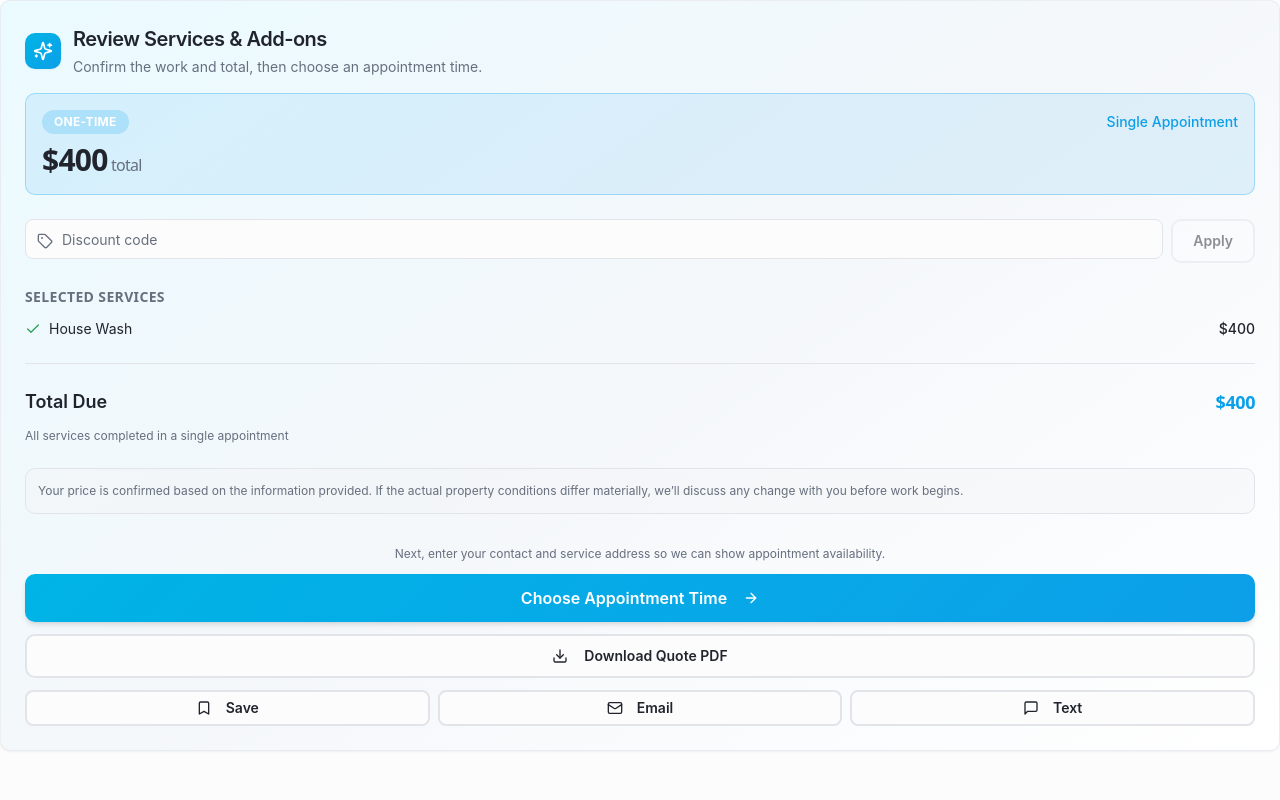
it: OneTimeSummary — email + bid-by-text delivery › email delivery reuses save-quote and shows masked destination as accepted (not delivered)
Click the button "Email" at (640, 708), box [438,690,842,726]
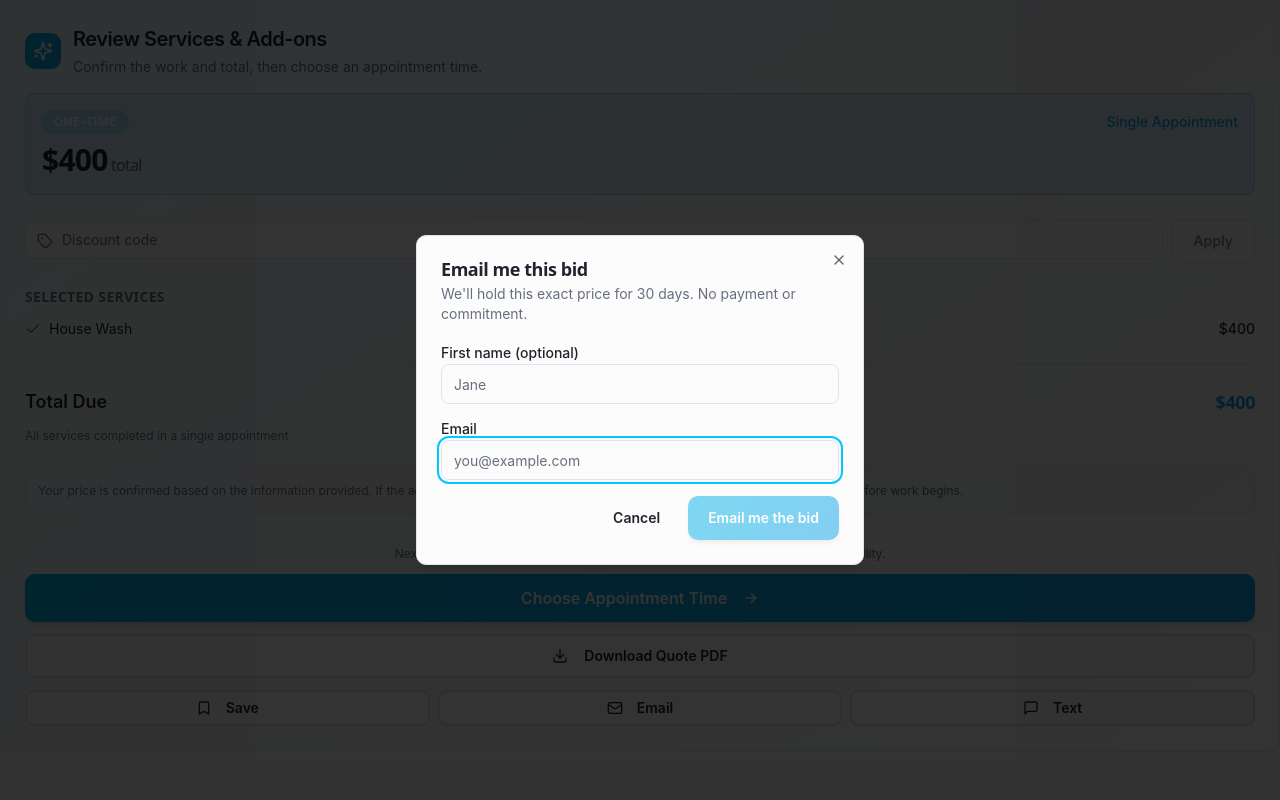
Type "jane.doe@example.com" into the field labelled "Email" at (640, 460), box [441,440,839,480]
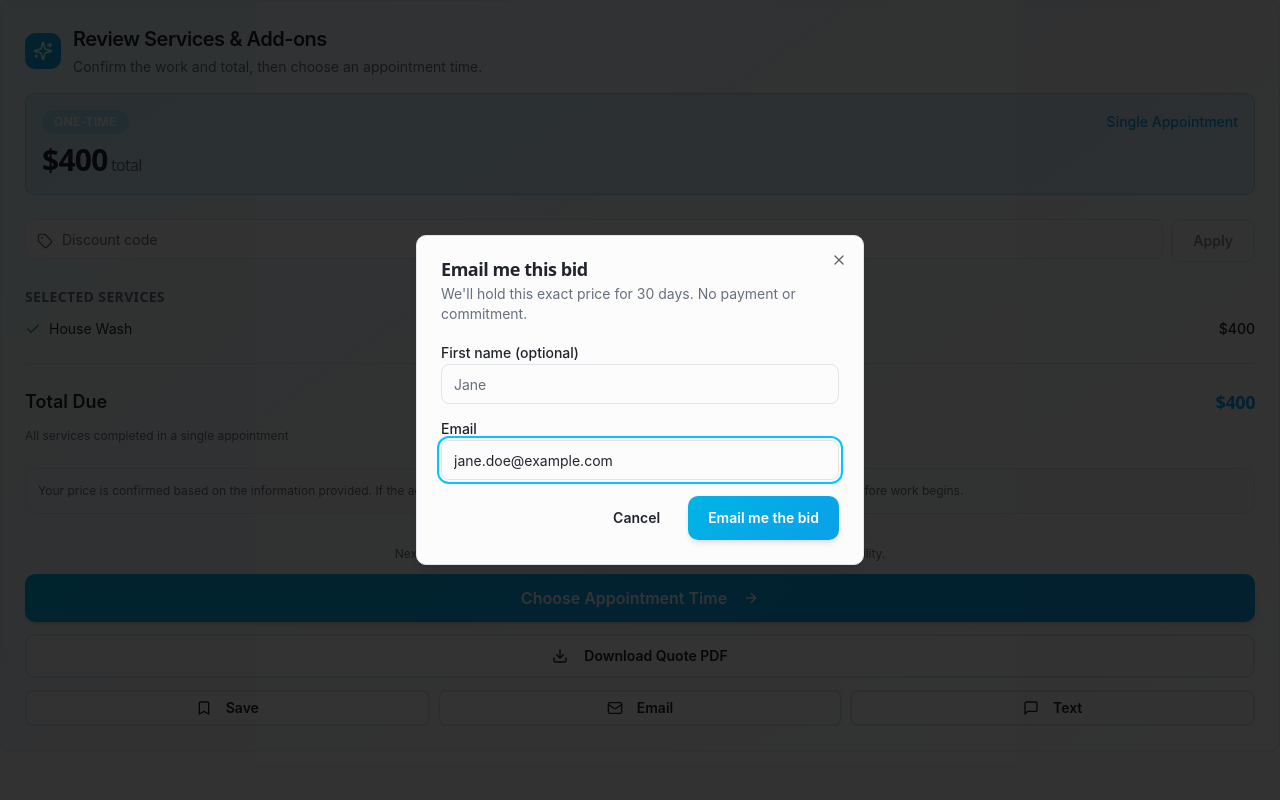
Click the button "Email me the bid" at (764, 518), box [688,496,839,540]
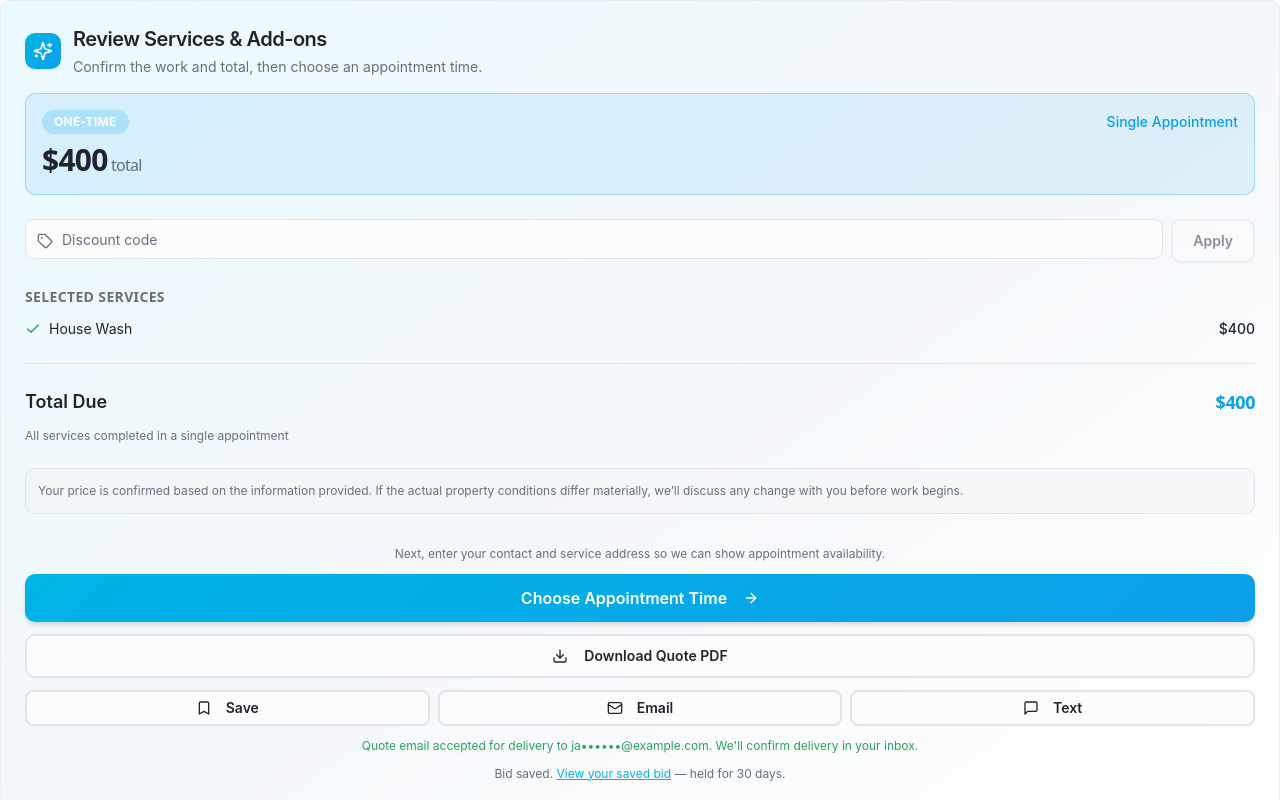
Result: the text with test id "delivery-success" shows "accepted for delivery" at [362,738,918,752]
